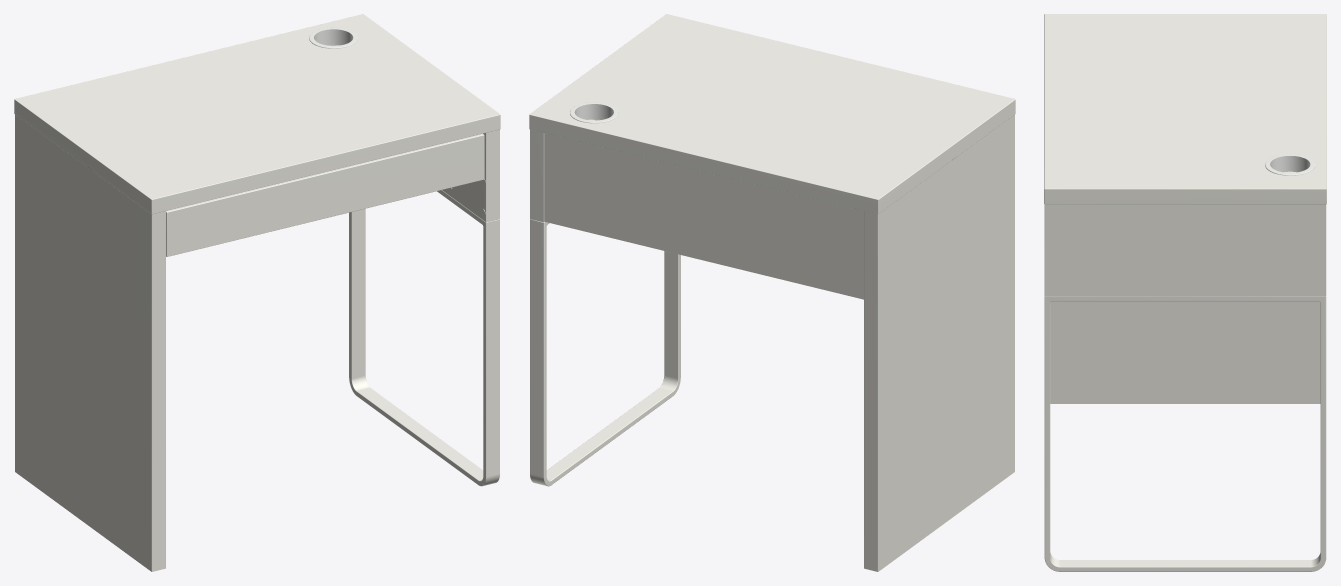
File: micke.glb
3 views of the same model, side by side, from view 1: azimuth 30°, elevation 25°; view 2: azimuth 150°, elevation 25°; view 3: azimuth 270°, elevation 25° (orthographic). The views are drawn at different scales.
Size of the model in its own units: 0.733 by 0.7516 by 0.5.
1 material, 1 textured.
